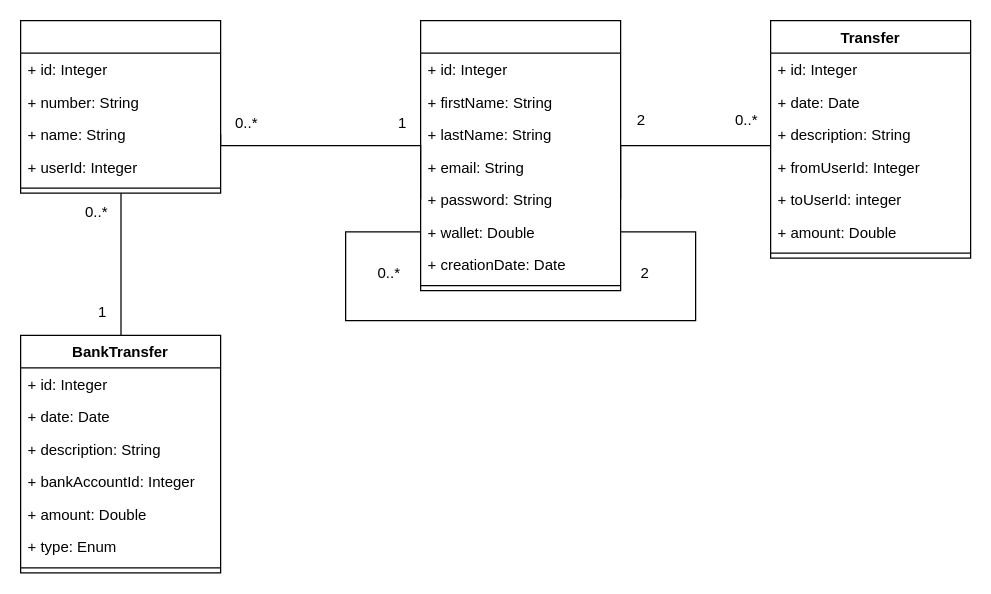
This 991x594 diagram has some shape labels left out. The box of each missing label's shape, as (x1, y1, x2, y2) in pixels:
BankAccount: (19, 19, 221, 193)
User: (419, 19, 621, 291)
